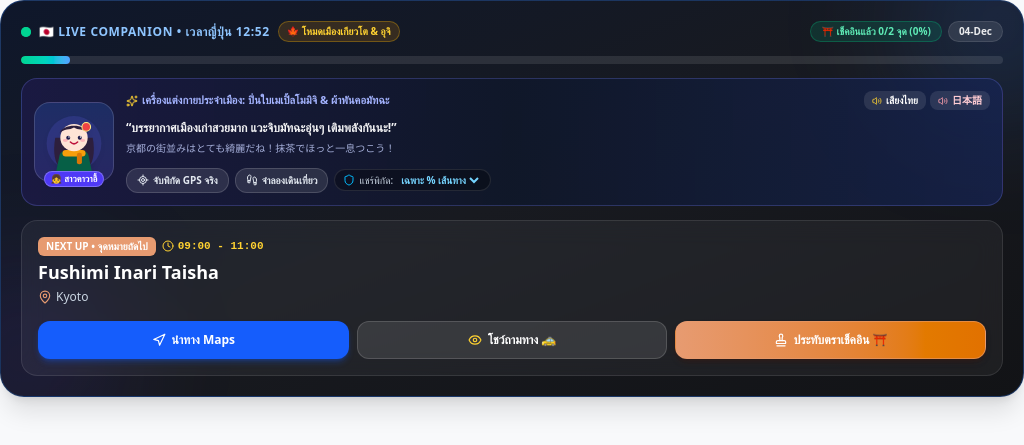
Scenario: UI Upgrades & Mobile/iPad Responsive Suite › 7. LiveTripCard Database Field Mapping & Visited Stamp Sync › reads main_place, date_label, time_slot, and city and syncs Eki-Stamp
Click the button "ประทับตราเช็คอิน ⛩️". click: (831, 340)
box: [675,320,986,358]
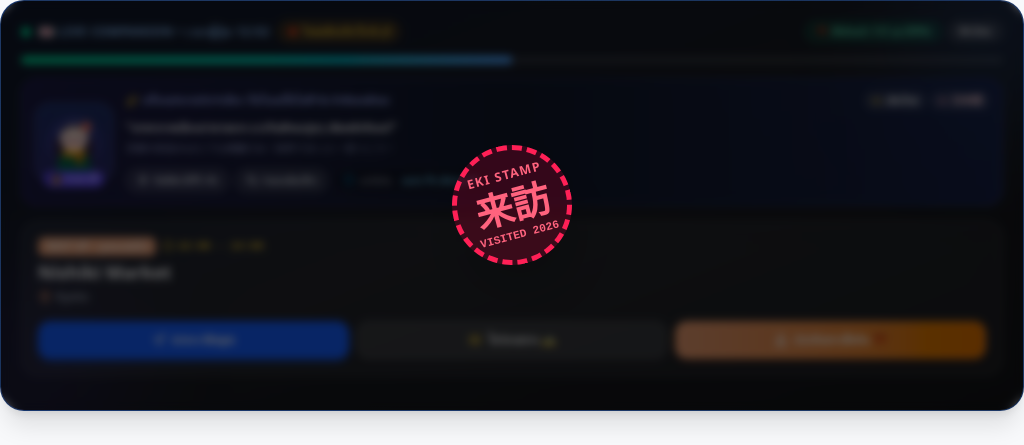
Expected: the text "เช็คอินแล้ว 1/2 จุด" is shown, [805,21,942,42]
